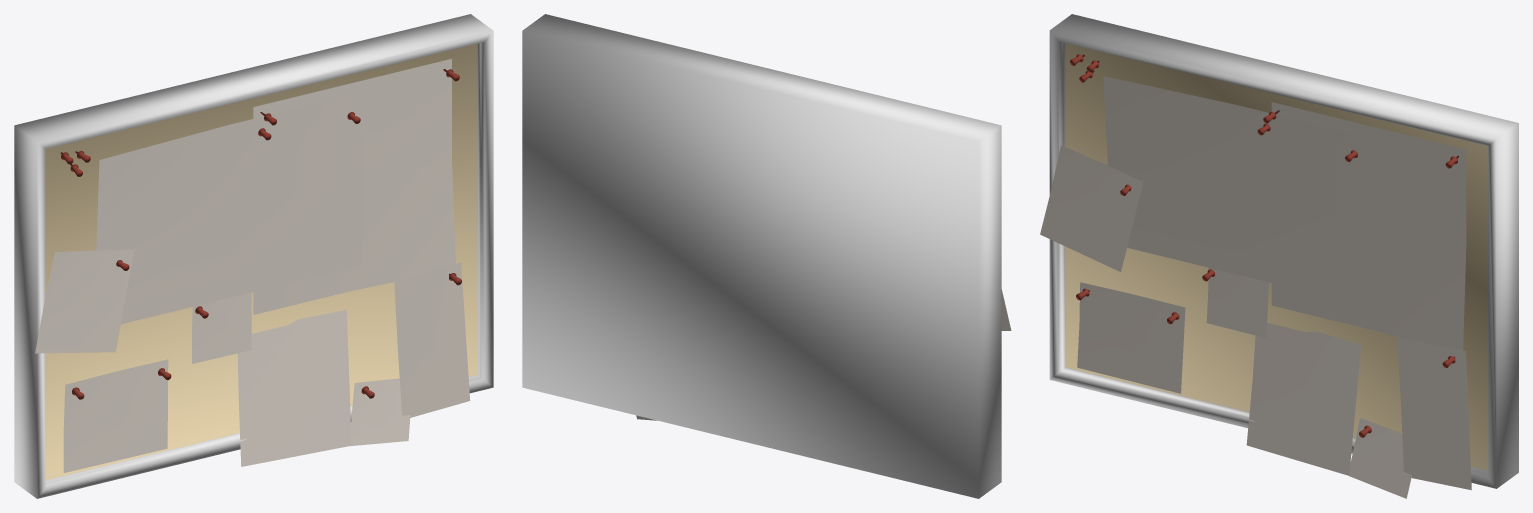
File: NoteBoard.glb
3 renders of one model, left to right at view 1: azimuth 30°, elevation 25°; view 2: azimuth 150°, elevation 25°; view 3: azimuth 330°, elevation 25°, orthographic. The views are drawn at different scales.
Visible parts, largest first — view 1: Cube.11647; view 2: Cube.11647; view 3: Cube.11647.
Part boxes in pixels (<box>): Cube.11647: <box>14,14,493,498</box>; Cube.11647: <box>522,14,1011,498</box>; Cube.11647: <box>1040,14,1518,498</box>.
Bounding box in the file's own units: 1.09 × 0.8724 × 0.1292.
